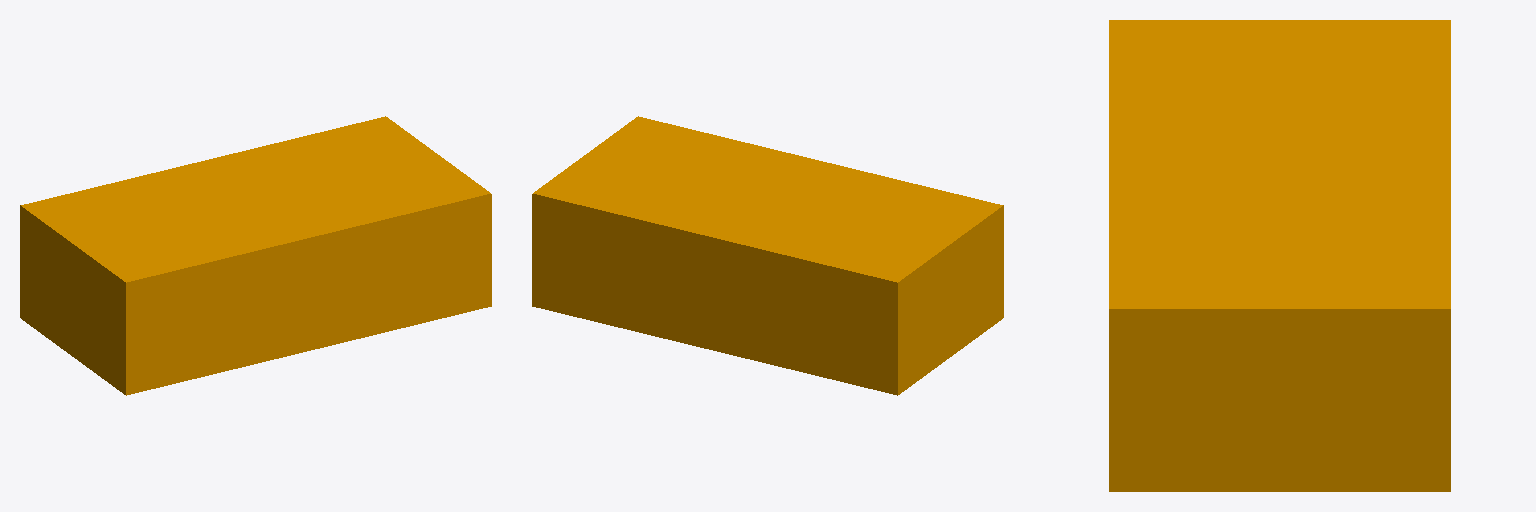
URDF robot description (2x2):
<?xml version='1.0' encoding='UTF-8'?>
<robot name="2x2">
  <link name="base_link">
    <inertial>
      <origin xyz="0.0 0.0 0.0" rpy="0.0 0.0 0.0"/>
      <mass value="0.01"/>
      <inertia ixx="0.1" ixy="0.0" ixz="0.0" iyy="0.1" iyz="0.0" izz="0.1"/>
    </inertial>
    <visual>
      <geometry>
        <box size="0.044 0.022 0.013"/>
      </geometry>
      <material name=""/>
      <origin xyz="0.0 0.0 0.0" rpy="0.0 0.0 0.0"/>
    </visual>
    <collision>
      <geometry>
        <box size="0.044 0.022 0.013"/>
      </geometry>
      <origin xyz="0.0 0.0 0.0" rpy="0.0 0.0 0.0"/>
    </collision>
  </link>
  <material name="">
    <color rgba="0.055 0.582 0.391 1.   "/>
  </material>
  <contact>
    <lateral_friction value="1.0"/>
    <rolling_friction value="0.0"/>
    <contact_cfm value="0.0"/>
    <contact_erp value="1.0"/>
  </contact>
</robot>

--- Render facts (derived) ---
3 views of the same robot in one strip: view 1: azimuth 30°, elevation 25°; view 2: azimuth 150°, elevation 25°; view 3: azimuth 270°, elevation 25° (orthographic).
Model 2x2 with 1 links and 0 joints (none), rooted at base_link, posed all joints at 0.
Visible links, largest first — view 1: base_link; view 2: base_link; view 3: base_link.
Boxes of the visible links, left/top/right/bottom form: base_link: left=20, top=116, right=491, bottom=395; base_link: left=532, top=116, right=1003, bottom=395; base_link: left=1109, top=20, right=1450, bottom=491.
Bounding box of the posed robot: 0.044 × 0.022 × 0.013 m (x, y, z).
Geometry: primitives only (box / cylinder / sphere), no mesh files.